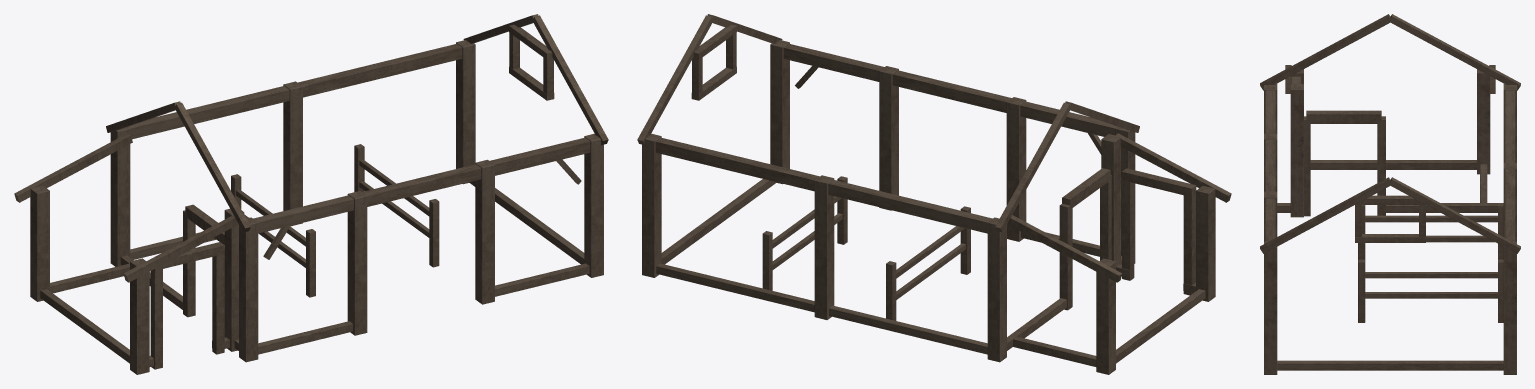
File: BW_StableA01_Structure.fbx
The picture shows the model from 3 angles, left to right: view 1: azimuth 30°, elevation 25°; view 2: azimuth 150°, elevation 25°; view 3: azimuth 270°, elevation 25°; orthographic projection. The views are drawn at different scales.
Parts seen in each view (by area): view 1: BW_StableA01_Structure; view 2: BW_StableA01_Structure; view 3: BW_StableA01_Structure.
Boxes of the visible parts, x1,y1,x2,y2 form: BW_StableA01_Structure: (14, 14, 608, 374); BW_StableA01_Structure: (637, 14, 1231, 374); BW_StableA01_Structure: (1260, 14, 1520, 374).
Bounding box in the file's own units: 11.39 × 4.89 × 5.87.
